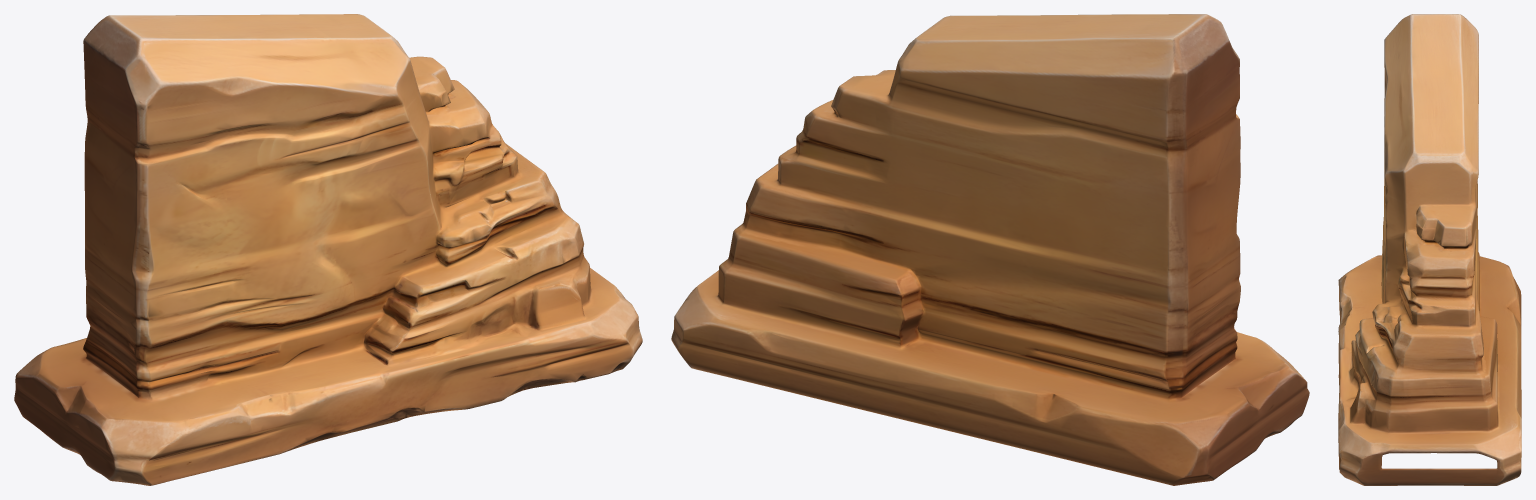
The model's file is Angular sandstone cover slab.fbx.
The picture shows the model from 3 angles, left to right: view 1: azimuth 30°, elevation 25°; view 2: azimuth 150°, elevation 25°; view 3: azimuth 270°, elevation 25°; orthographic projection. The views are drawn at different scales.
Visible parts, largest first — view 1: Mesh_0; view 2: Mesh_0; view 3: Mesh_0.
Part boxes in pixels (x1,y1,x2,y2): Mesh_0: [14, 14, 642, 485]; Mesh_0: [671, 14, 1309, 485]; Mesh_0: [1338, 14, 1521, 485].
Size of the model in its own units: 94.9 by 69.36 by 37.96.
1 material, 1 textured.
